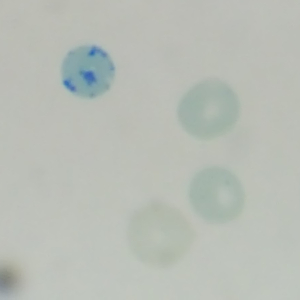aggregate reticulocyte: (60, 44, 118, 99)
erythrocyte: (124, 200, 197, 270), (177, 77, 241, 140), (187, 165, 246, 227)
